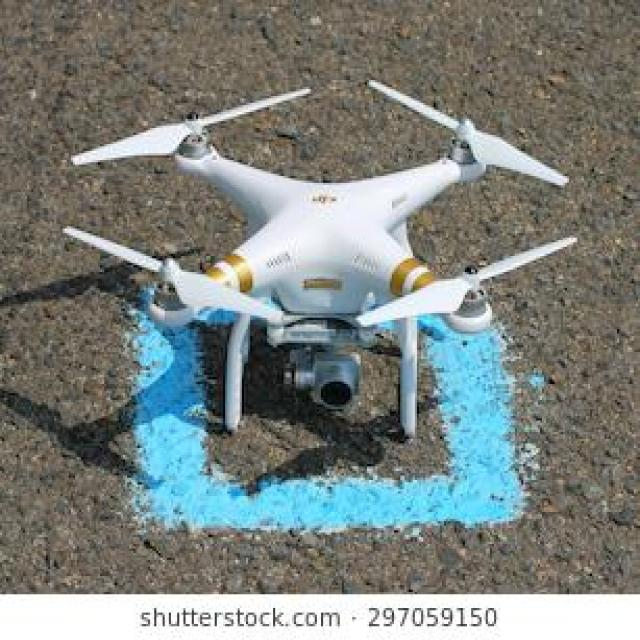drone: (0, 71, 640, 552)
